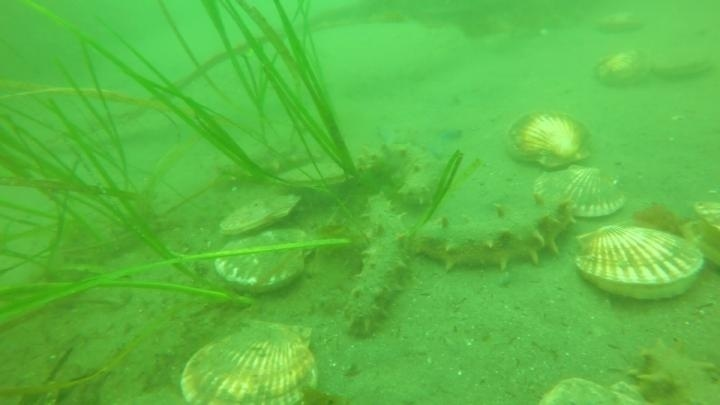holothurian: (403, 193, 578, 276), (340, 192, 414, 341), (354, 137, 442, 210), (629, 335, 717, 404)
scallop: (177, 318, 323, 404), (567, 221, 710, 304), (209, 227, 313, 297), (1, 181, 66, 283), (503, 105, 596, 174), (531, 163, 630, 223), (215, 186, 303, 241), (274, 156, 351, 207), (642, 42, 716, 84), (534, 372, 628, 404), (591, 46, 654, 92), (684, 197, 720, 270)
